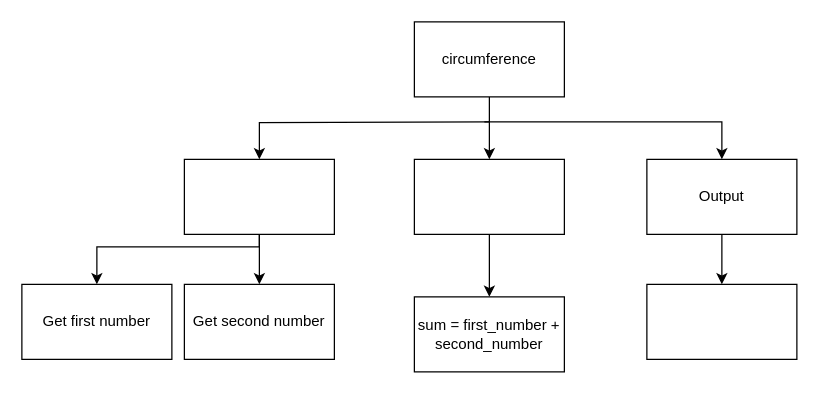
Some shapes in this 819 by 394 pixel diagram are drawn without their labels. The box of each missing label's shape, as (x1, y1, x2, y2) in pixels:
Input: (183, 158, 334, 234)
Process: (413, 158, 564, 234)
Show Total: (646, 283, 797, 359)
